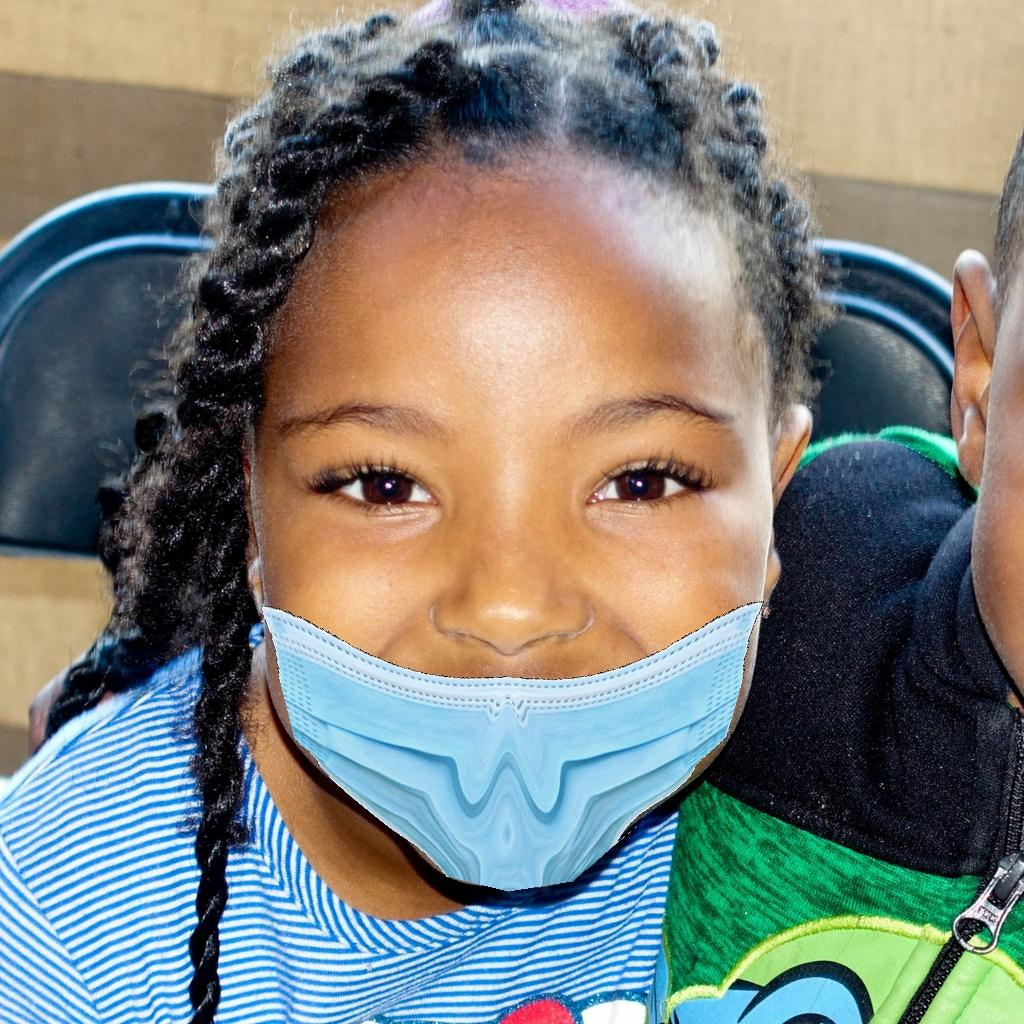Máscara Incorreta: (220, 186, 810, 886)
